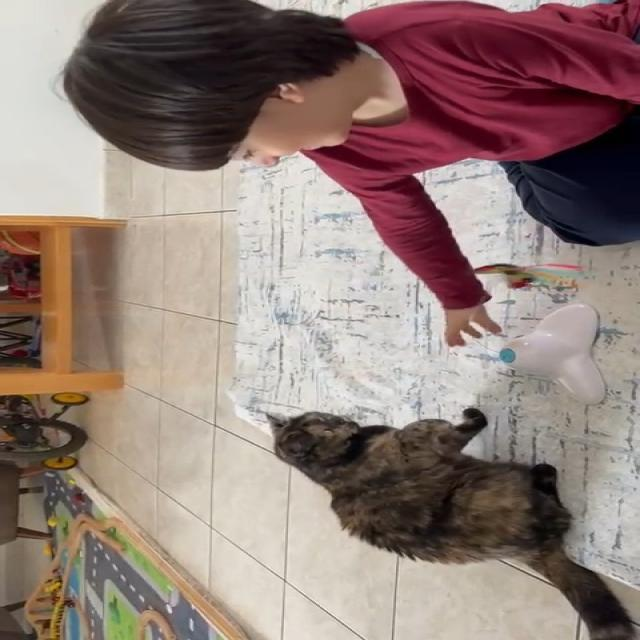authorized: (264, 407, 639, 639)
